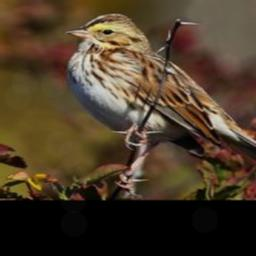Sparrow: (65, 11, 256, 170)
